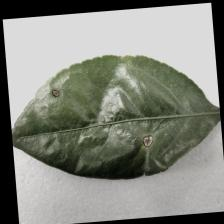canker: (48, 88, 164, 156)
